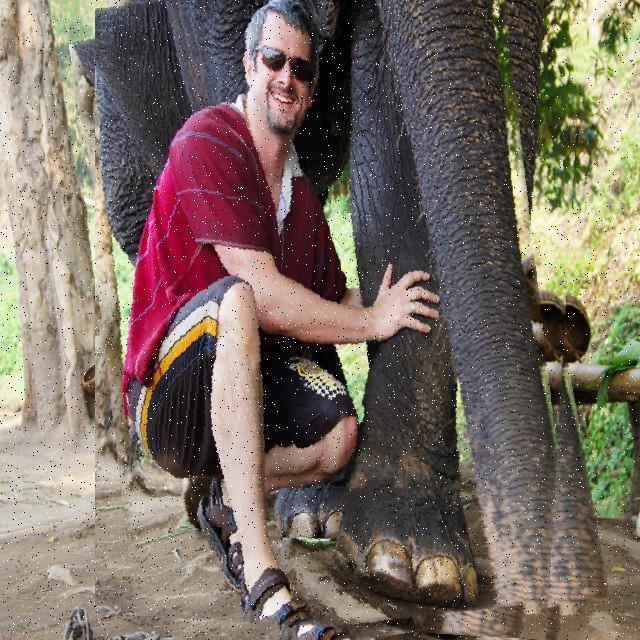elephant: (95, 0, 584, 640)
